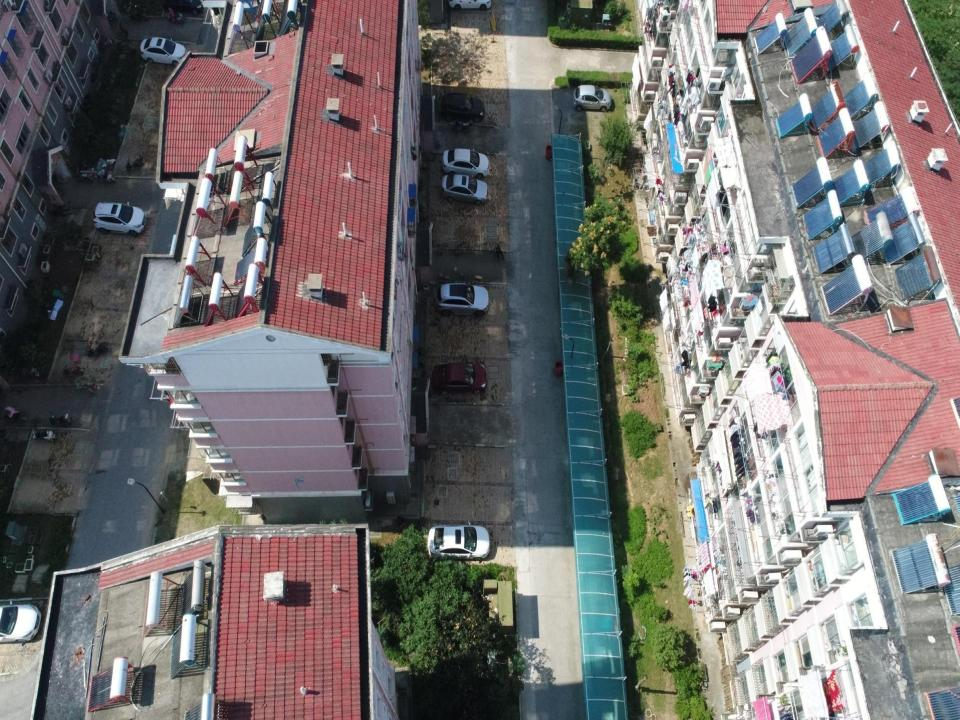car: (427, 524, 490, 560), (93, 198, 148, 236), (432, 362, 487, 395), (434, 283, 489, 316), (440, 173, 488, 206), (1, 605, 41, 643), (140, 36, 186, 68), (442, 148, 489, 178), (441, 94, 484, 120), (572, 85, 612, 112)
